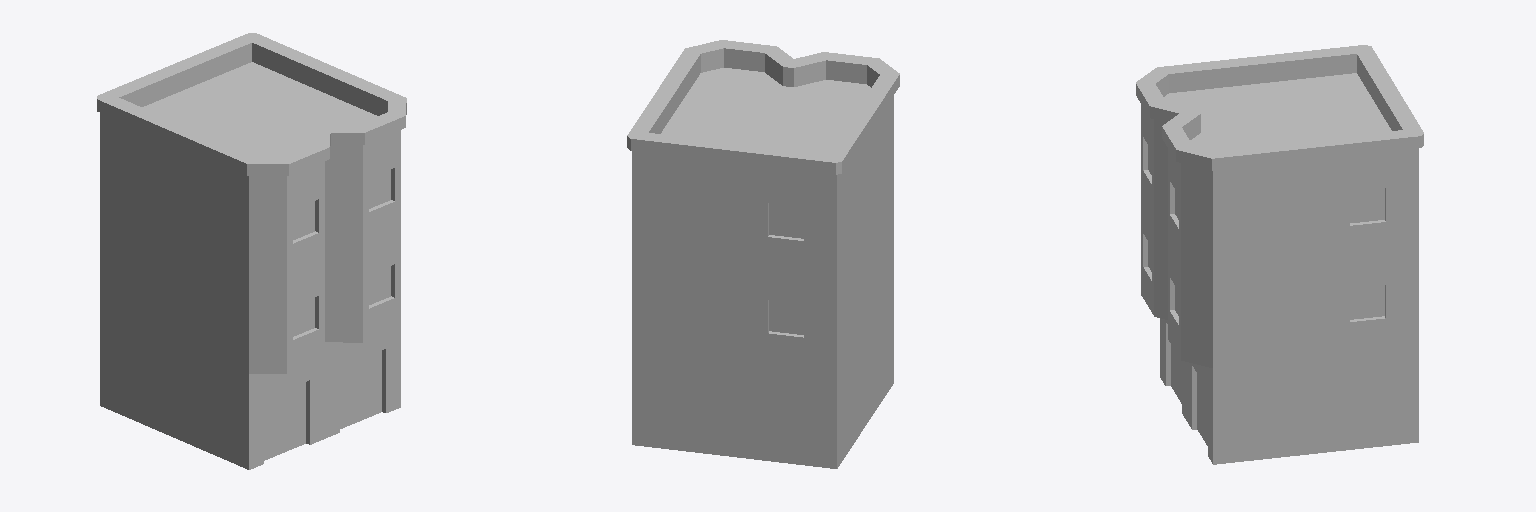
The model's file is variant_27.obj.
3 views of the same model, side by side, from view 1: azimuth 30°, elevation 25°; view 2: azimuth 150°, elevation 25°; view 3: azimuth 270°, elevation 25° (orthographic).
Parts seen in each view (by area): view 1: Building; view 2: Building; view 3: Building.
Boxes of the visible parts, <box> form: Building: <box>97,33,406,469</box>; Building: <box>627,40,899,468</box>; Building: <box>1136,45,1423,464</box>.
Bounding box in the file's own units: 1.01 × 1.28 × 1.09.